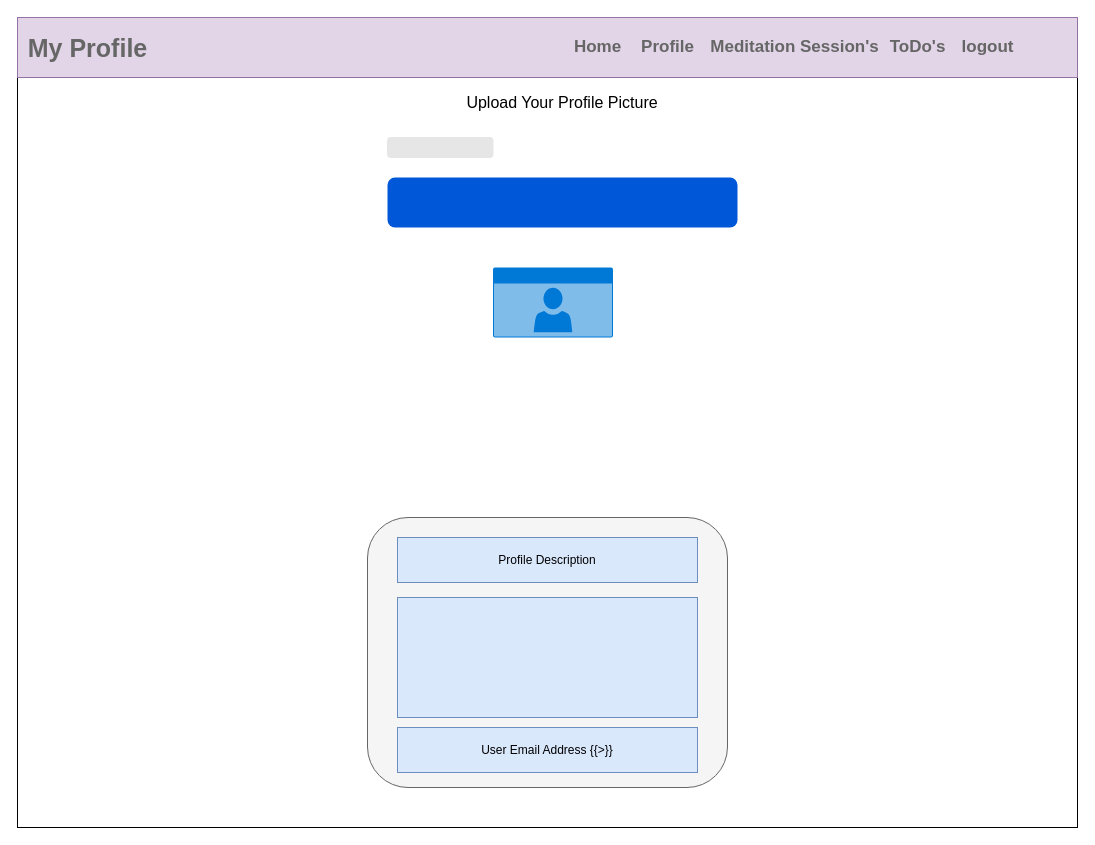
The diagram is 1095 pixels wide and 845 high, and some of its shapes have lost their labels. Here are the shapes that lost their labels. From the top down, the box of each, then its label:
(386, 136, 493, 158): Choose file:
(387, 177, 737, 227): Submit
(396, 596, 698, 718): hey {{>username}} This is your Profile...
